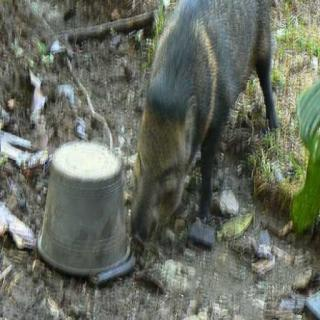Pig: (129, 0, 320, 272)
